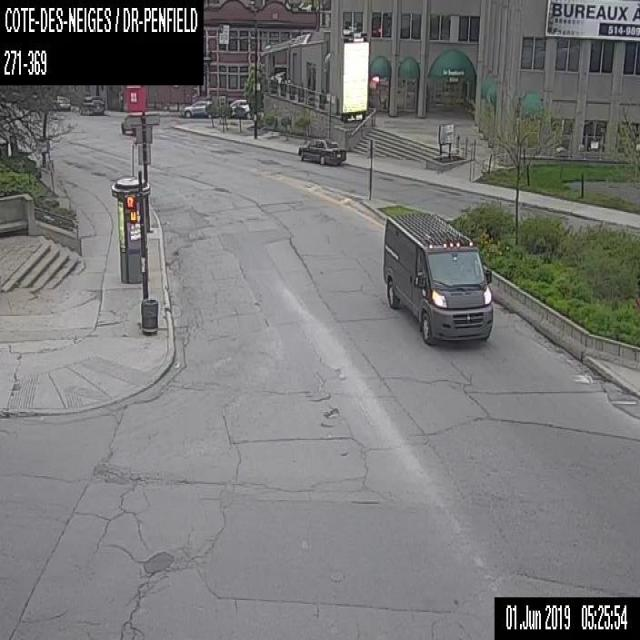vehicle: (381, 210, 494, 346), (296, 136, 346, 165), (182, 98, 214, 118), (77, 94, 103, 114), (228, 97, 251, 118), (120, 112, 141, 134), (55, 94, 70, 110)
